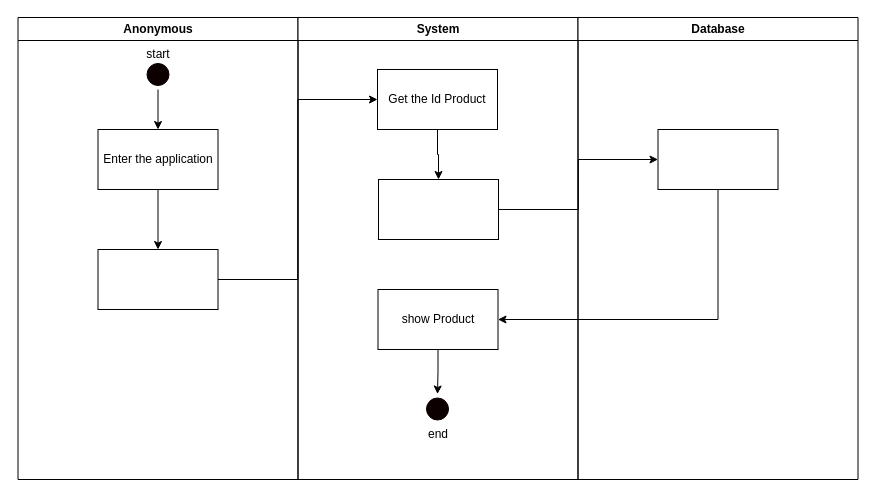
This 875x497 diagram has some shape labels left out. The centre of each missing label's shape, as x and y in pixels:
"Click on a Product" goes at point 157,279.
"Get a specific Product" goes at point 717,159.
"Receive the Get request" goes at point 438,209.
